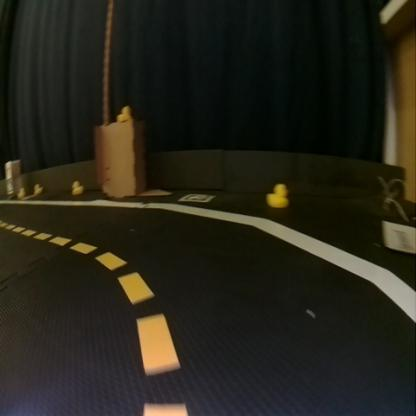Duckie: (265, 183, 288, 207), (116, 105, 131, 120), (70, 180, 83, 194), (33, 183, 42, 193), (17, 187, 25, 198)
QR code: (179, 192, 214, 201)
